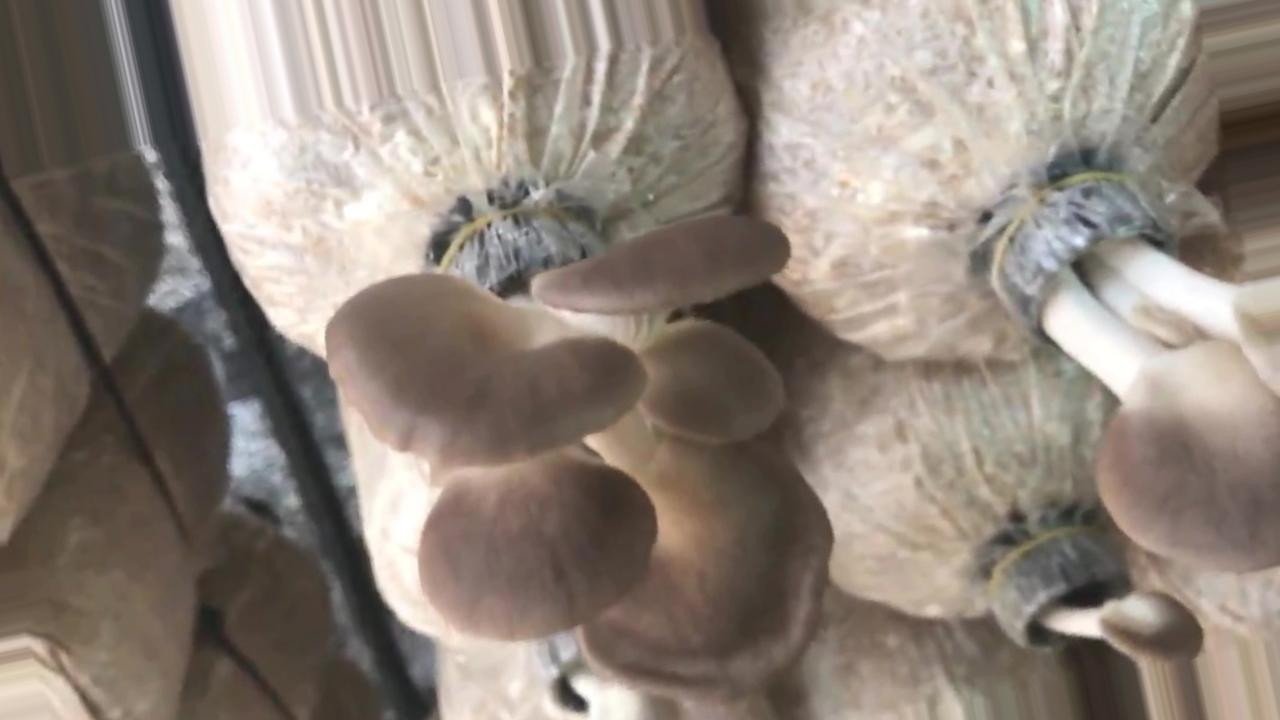nam: (326, 209, 831, 699), (1003, 181, 1280, 567), (998, 537, 1203, 662)
